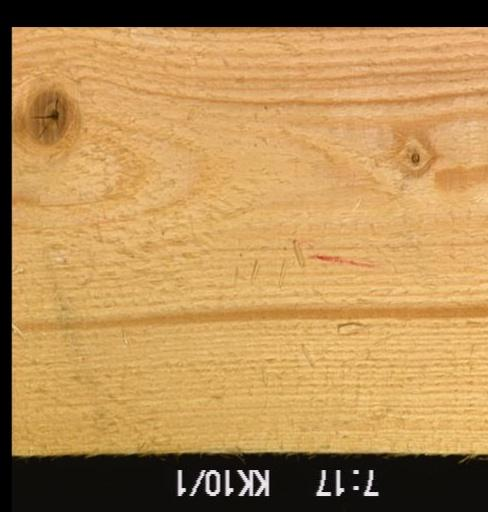dry_knot: (405, 151, 422, 165)
sound_knot: (24, 87, 73, 148)
